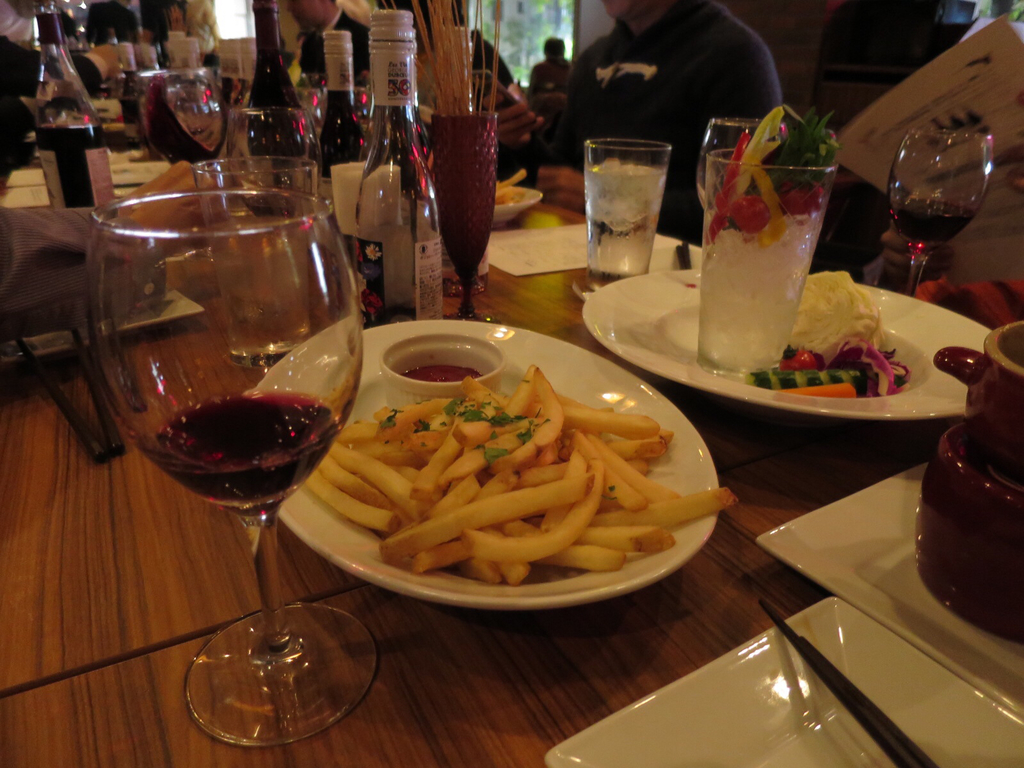French fries: (300, 366, 739, 593)
